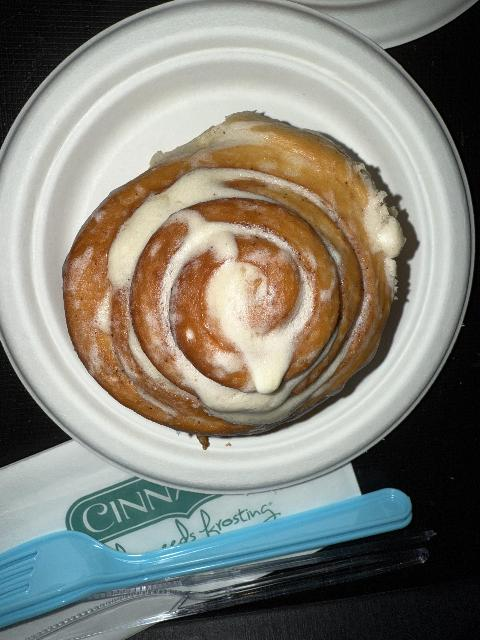Organik: (70, 127, 402, 429)
Plastik: (5, 498, 411, 625)
